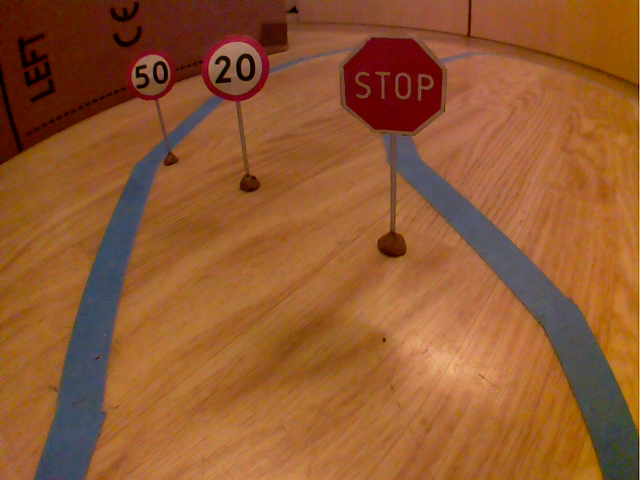Ograniczenie 20: (199, 30, 275, 105)
Ograniczenie 50: (122, 47, 180, 103)
Stop: (334, 29, 452, 141)
